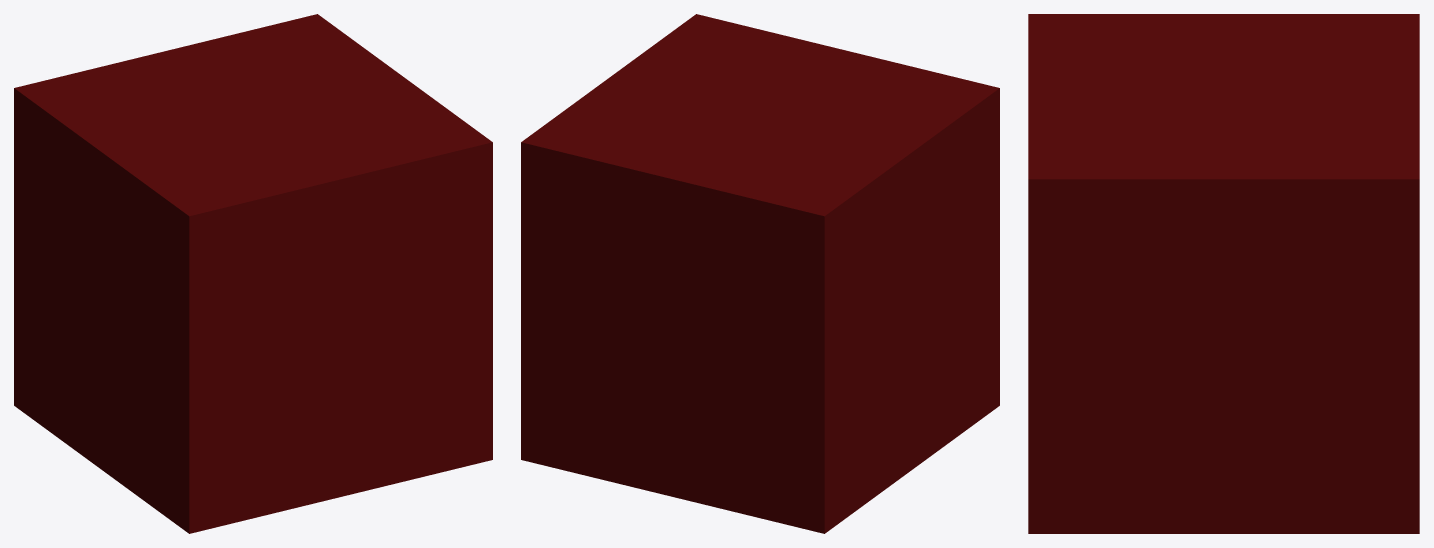
3 renders of one model, left to right at view 1: azimuth 30°, elevation 25°; view 2: azimuth 150°, elevation 25°; view 3: azimuth 270°, elevation 25°, orthographic. The views are drawn at different scales.
Parts seen in each view (by area): view 1: Oggetto_1; view 2: Oggetto_1; view 3: Oggetto_1.
Part boxes in pixels (bbox=[...]): Oggetto_1: bbox=[14, 14, 492, 533]; Oggetto_1: bbox=[521, 14, 999, 533]; Oggetto_1: bbox=[1028, 14, 1419, 533].
Size of the model in its own units: 2 by 2 by 2.
